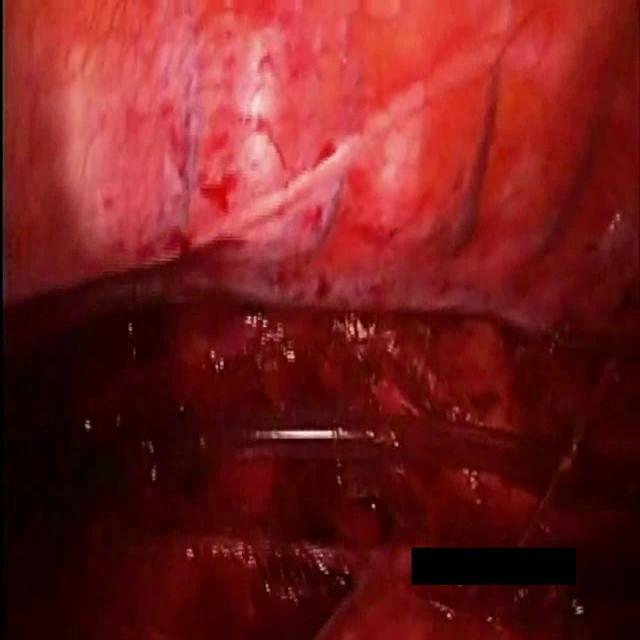surgical-area: (408, 538, 640, 639)
